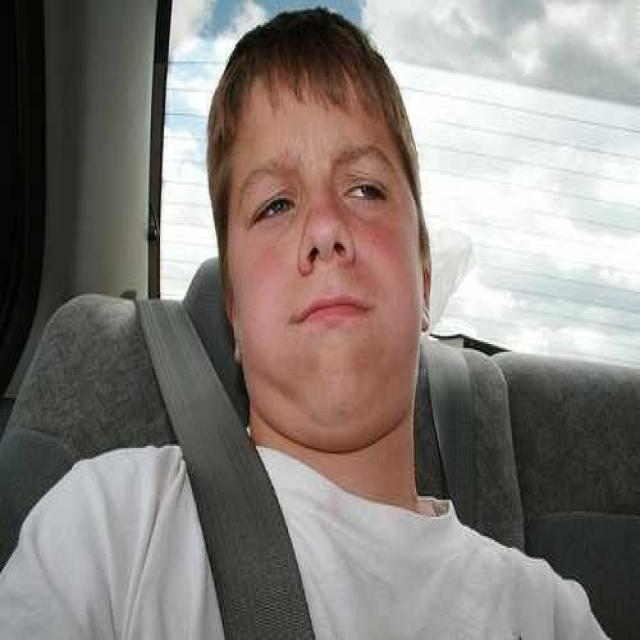seatbelt: (120, 283, 316, 636), (425, 330, 484, 512)
